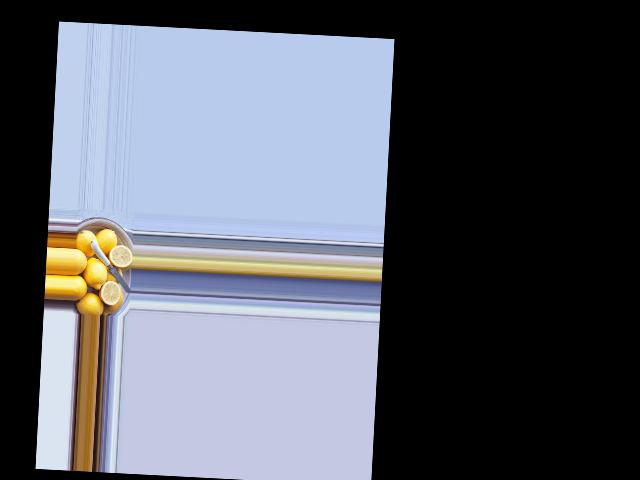lemon: (75, 290, 107, 315)
